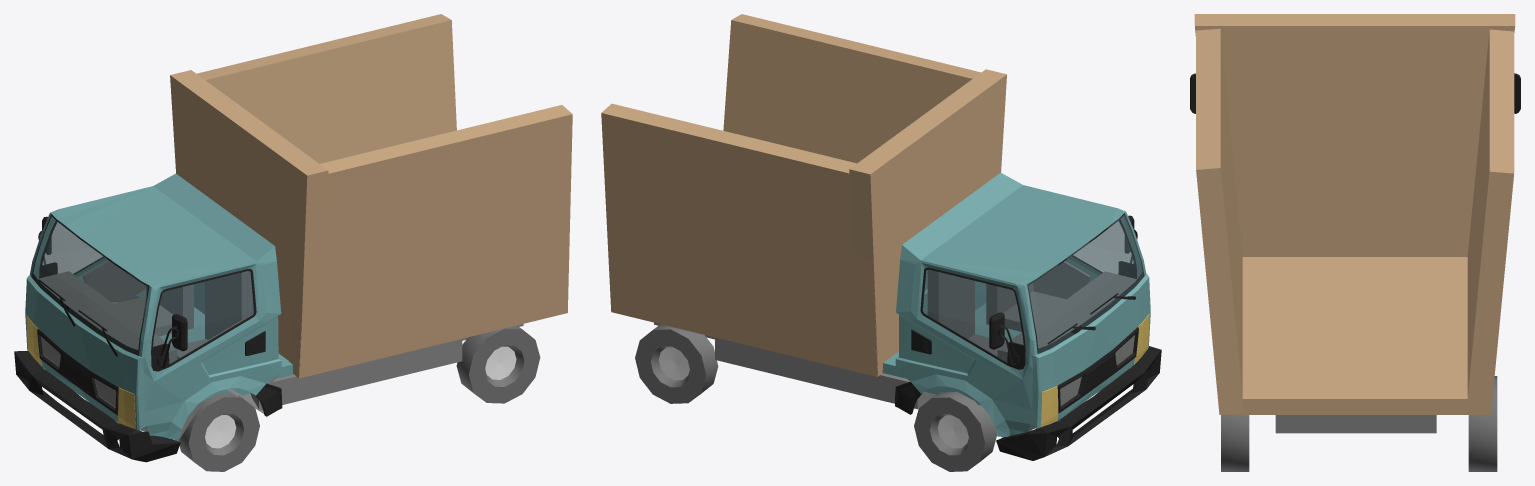
File: Truck_simple.fbx
The picture shows the model from 3 angles, left to right: view 1: azimuth 30°, elevation 25°; view 2: azimuth 150°, elevation 25°; view 3: azimuth 270°, elevation 25°; orthographic projection. The views are drawn at different scales.
Parts seen in each view (by area): view 1: Truck, BODY, GLASS, Interior, CABIN_PLASTIC, Cube_1, Tube_1, BUMPER_FRONT, Tube, Cube_2, LIGHTS, b2_1; view 2: Truck, BODY, GLASS, Interior, CABIN_PLASTIC, Cube_1, Tube_3, Tube_2, BUMPER_FRONT, Cube, LIGHTS, b2_1; view 3: Truck, Cube_1, Tube_3, Tube_1, CABIN_PLASTIC.
Boxes of the visible parts, x1,y1,x2,y2 form: Truck: (170,14,572,378); BODY: (25,173,281,438); GLASS: (31,214,253,363); Interior: (38,271,252,395); CABIN_PLASTIC: (31,214,282,416); Cube_1: (41,302,523,441); Tube_1: (456,325,540,403); BUMPER_FRONT: (14,350,180,462); Tube: (178,393,259,471); Cube_2: (82,260,146,302); LIGHTS: (26,315,135,429); b2_1: (159,307,293,401); Truck: (601,14,1006,376); BODY: (895,172,1150,436); GLASS: (923,213,1144,361); Interior: (927,269,1136,393); CABIN_PLASTIC: (895,213,1144,414); Cube_1: (654,322,1134,438); Tube_3: (635,324,718,403); Tube_2: (914,391,996,471); BUMPER_FRONT: (996,346,1161,460); Cube: (1033,261,1090,299); LIGHTS: (1040,314,1149,427); b2_1: (882,303,1021,405); Truck: (1194,14,1515,415); Cube_1: (1275,415,1436,433); Tube_3: (1468,376,1497,471); Tube_1: (1221,414,1249,471); CABIN_PLASTIC: (1190,73,1520,113).
Bounding box in the file's own units: 483 × 301 × 269.
